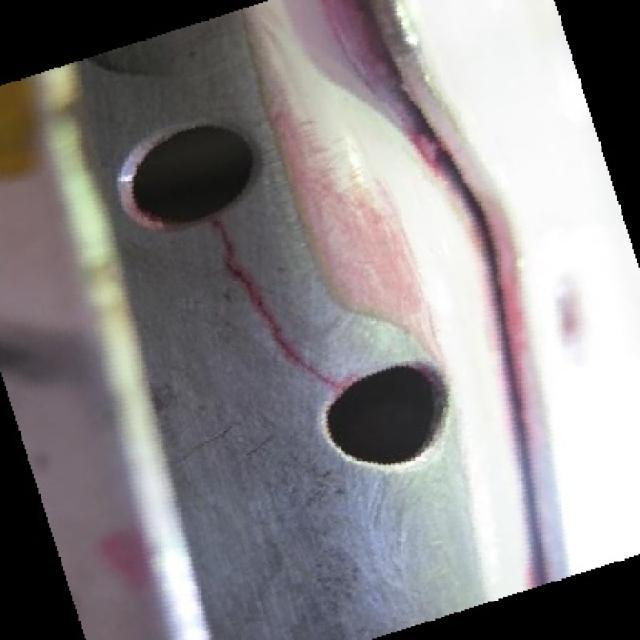crack: (256, 306, 284, 344), (236, 266, 261, 303), (287, 347, 315, 380), (224, 221, 241, 261), (317, 367, 343, 392)
